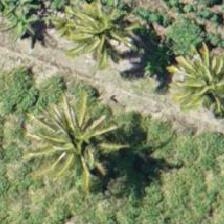coconut_tree: (50, 86, 140, 176), (60, 0, 150, 79), (161, 38, 223, 128)
